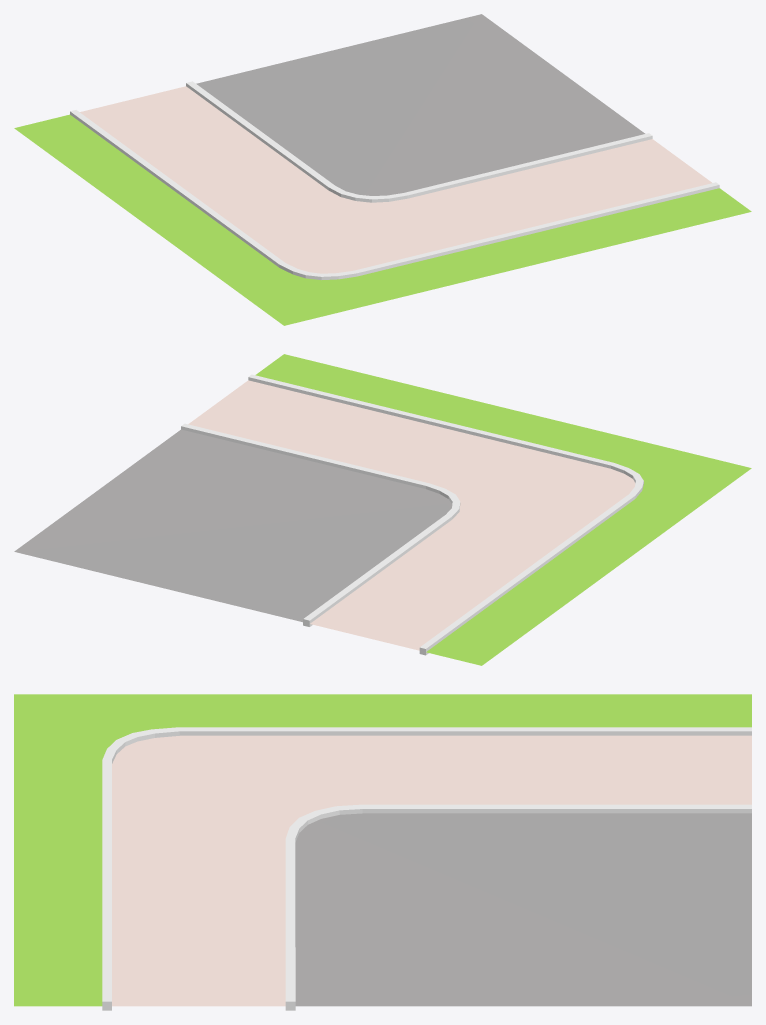
File: building_platform_005.glb
3 renders of one model, top to bottom at view 1: azimuth 30°, elevation 25°; view 2: azimuth 150°, elevation 25°; view 3: azimuth 270°, elevation 25°, orthographic. The views are drawn at different scales.
Parts seen in each view (by area): view 1: building_platform_005; view 2: building_platform_005; view 3: building_platform_005.
Part boxes in pixels (x1,y1,x2,y2): building_platform_005: (14,14,751,325); building_platform_005: (14,354,751,665); building_platform_005: (14,694,751,1010).
Size of the model in its own units: 15 by 0.2 by 15.
1 material, 1 textured.
